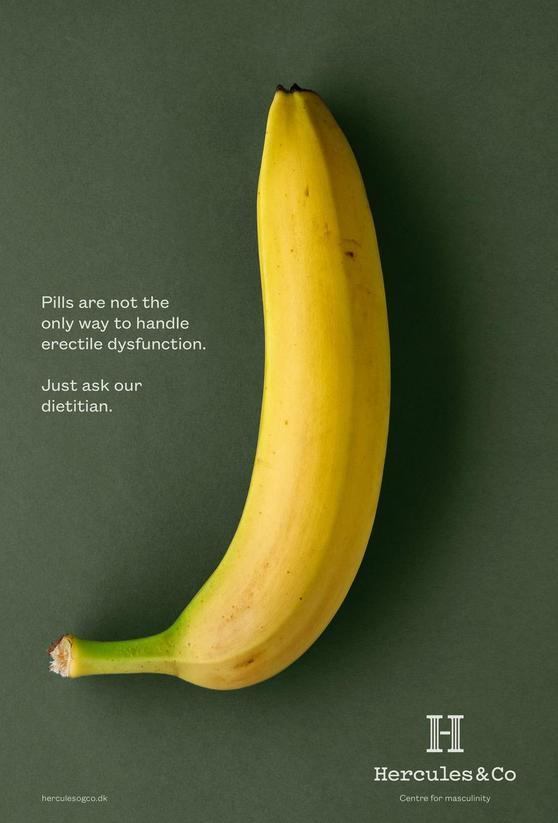banana: (53, 79, 398, 705)
